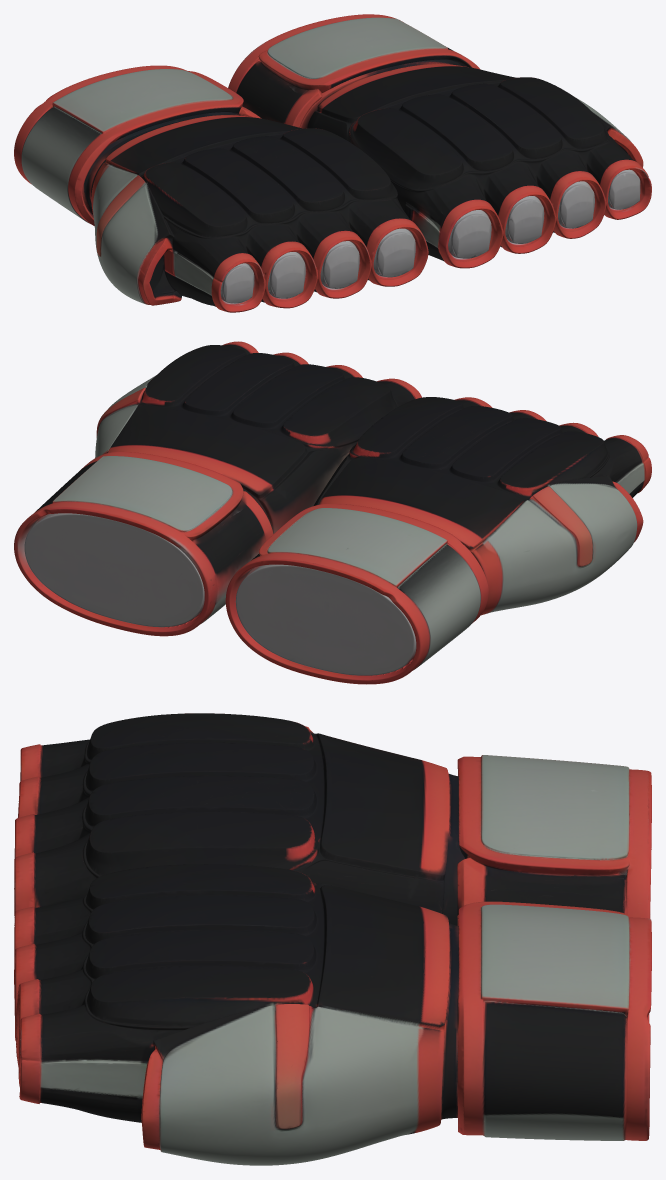
File: mma_gloves_pair__hunyuan.glb
3 renders of one model, top to bottom at view 1: azimuth 30°, elevation 25°; view 2: azimuth 150°, elevation 25°; view 3: azimuth 270°, elevation 25°, orthographic. The views are drawn at different scales.
Visible parts, largest first — view 1: material; view 2: material; view 3: material.
Boxes of the visible parts, x1,y1,x2,y2 form: material: [14, 14, 651, 312]; material: [14, 341, 651, 684]; material: [14, 713, 651, 1165].
Bounding box in the file's own units: 1.05 × 0.2665 × 0.8028.
Materials: 1 (1 with a texture image).
